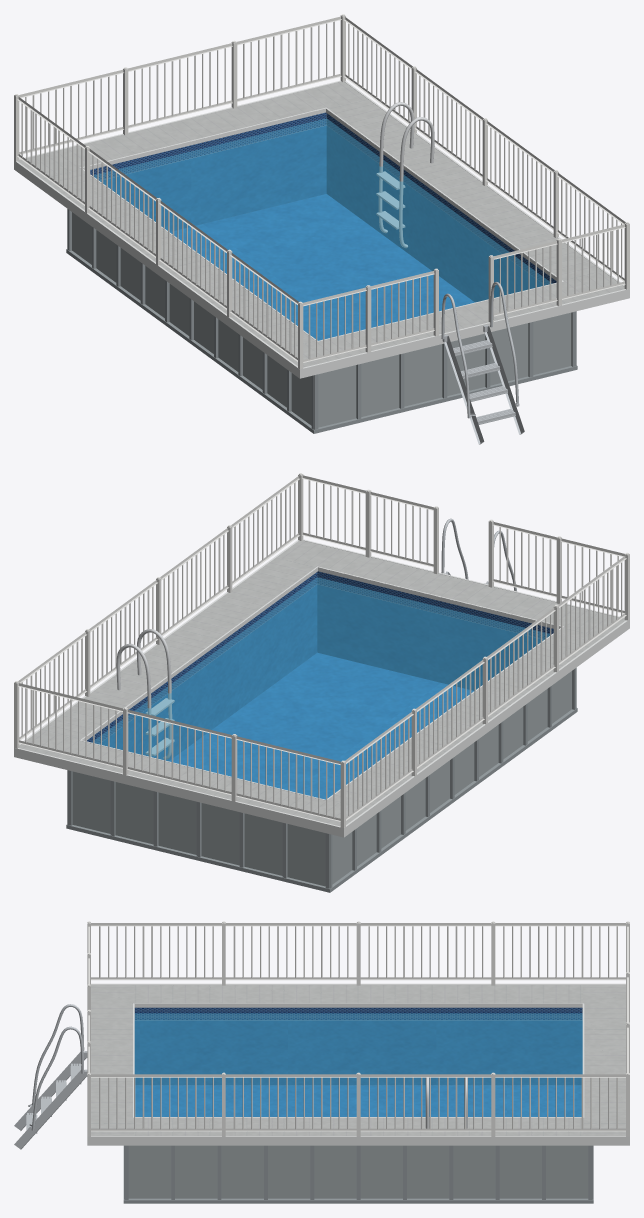
File: kayak-pool-12x20-gray-walk-ag-fence.629cf9cba4.glb
3 renders of one model, top to bottom at view 1: azimuth 30°, elevation 25°; view 2: azimuth 150°, elevation 25°; view 3: azimuth 270°, elevation 25°, orthographic. The views are drawn at different scales.
Visible parts, largest first — view 1: water, fence, liner_wall, deck, liner_floor, wall, fascia, upright, ladder, steel; view 2: water, fence, liner_wall, deck, wall, liner_floor, fascia, upright, steel, ladder; view 3: water, liner_wall, deck, fence, wall, liner_floor, fascia, upright, ladder, steel.
Part boxes in pixels (x1,y1,x2,y2): water: (94,118,551,340); fence: (14,14,629,369); liner_wall: (90,112,556,302); deck: (18,81,624,367); liner_floor: (170,194,474,340); wall: (72,212,571,427); fascia: (14,80,629,378); upright: (66,209,577,433); ladder: (441,282,524,444); steel: (376,102,434,247); water: (92,577,549,799); fence: (14,473,629,828); liner_wall: (87,571,553,761); deck: (19,540,625,826); wall: (72,671,571,886); liner_floor: (169,652,473,799); fascia: (14,539,629,837); upright: (66,667,577,892); steel: (116,629,174,759); ladder: (441,518,516,591); water: (134,1013,582,1116); liner_wall: (134,1007,582,1085); deck: (91,985,625,1135); fence: (87,921,629,1136); wall: (128,1145,588,1198); liner_floor: (135,1085,581,1116); fascia: (87,983,629,1145); upright: (123,1145,593,1203); ladder: (14,1004,87,1149); steel: (425,1077,467,1128).
Size of the model in its own units: 4.88 by 2.15 by 8.3.
Materials: 11 (3 with a texture image).
